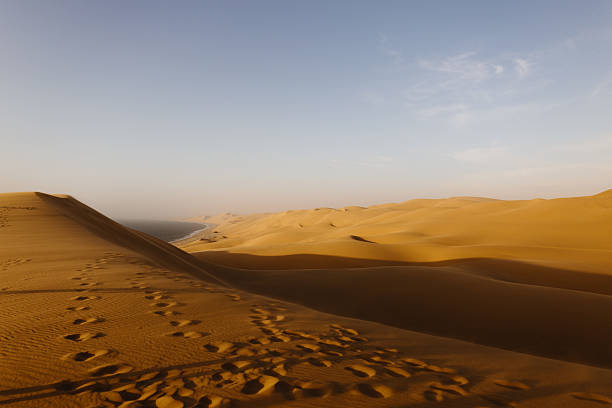human_footprint: (92, 303, 536, 407), (91, 336, 512, 406), (62, 349, 117, 361), (63, 332, 104, 341), (167, 331, 208, 338), (169, 319, 201, 326), (72, 317, 104, 324)
